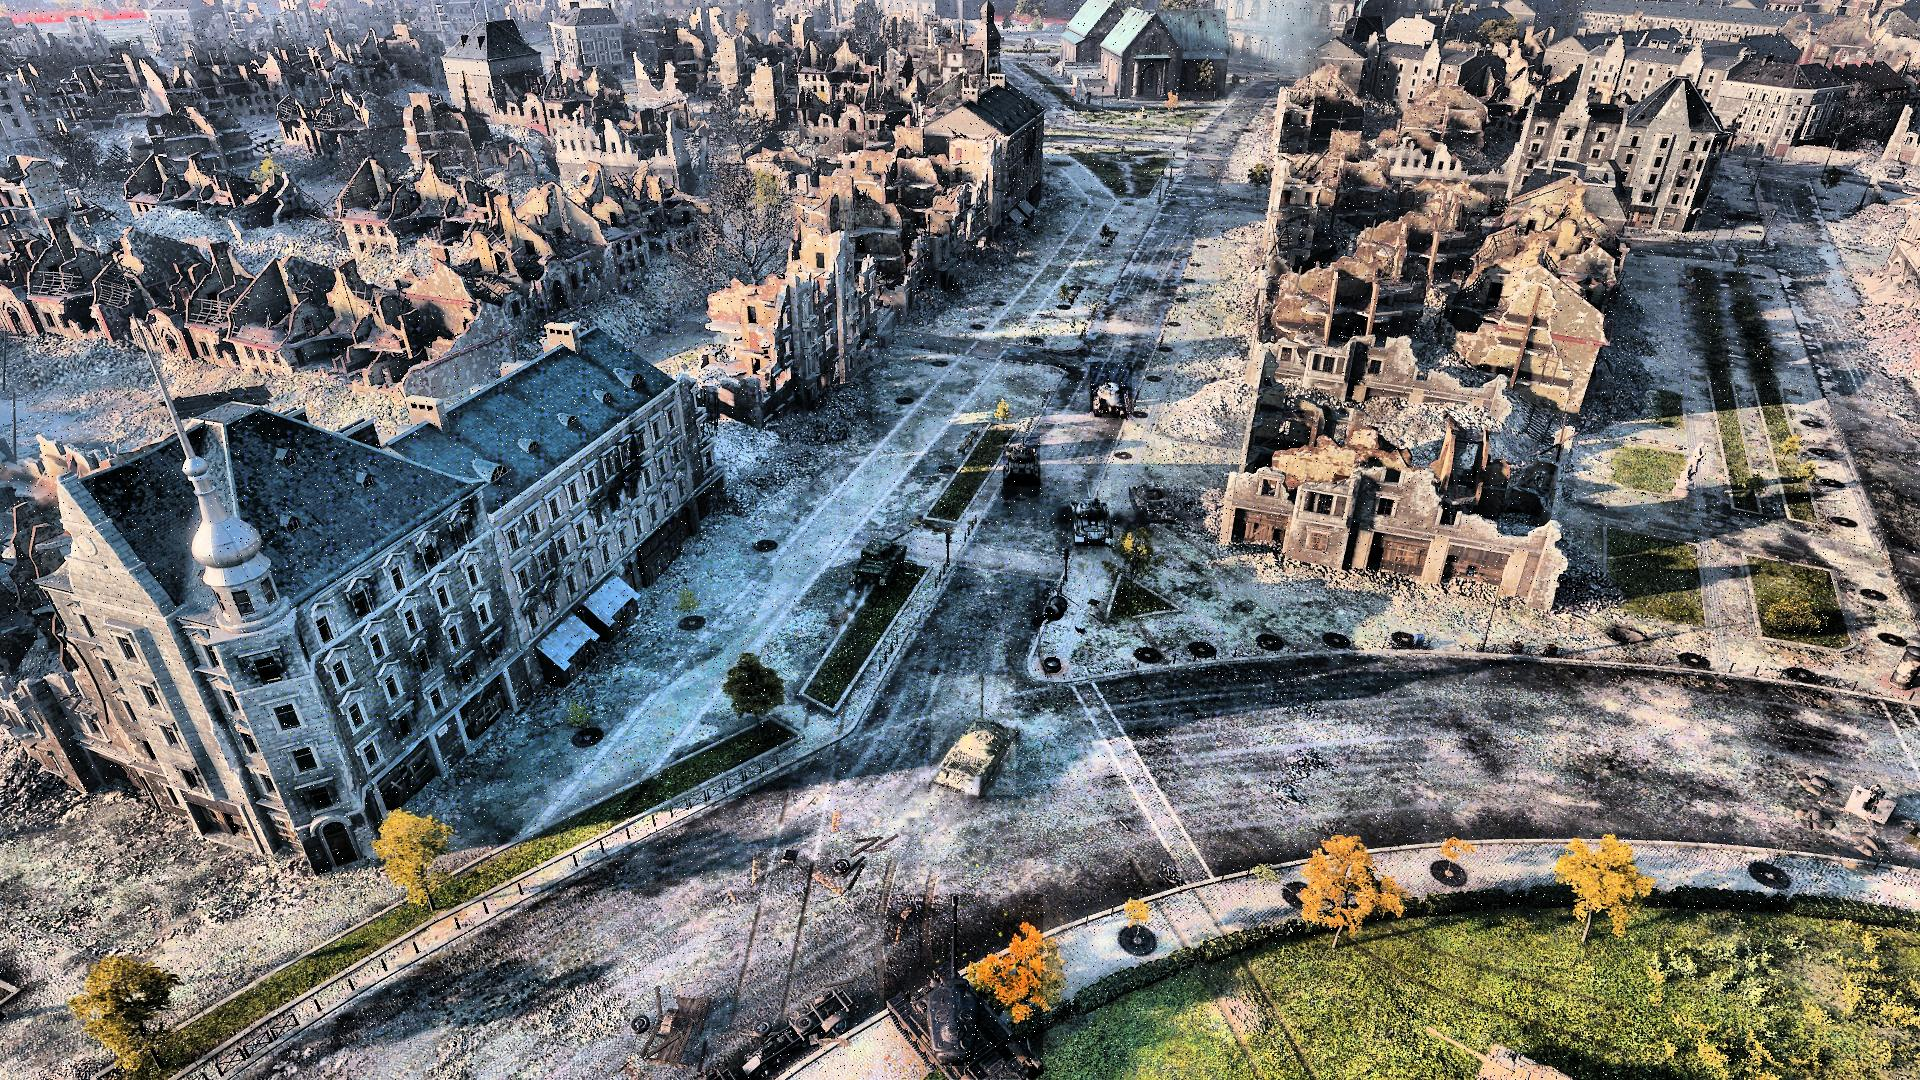military-vehicle: (884, 894, 1043, 1080), (932, 675, 1017, 795), (852, 530, 917, 591), (1068, 481, 1111, 545), (1091, 363, 1133, 419), (1004, 437, 1041, 486)
